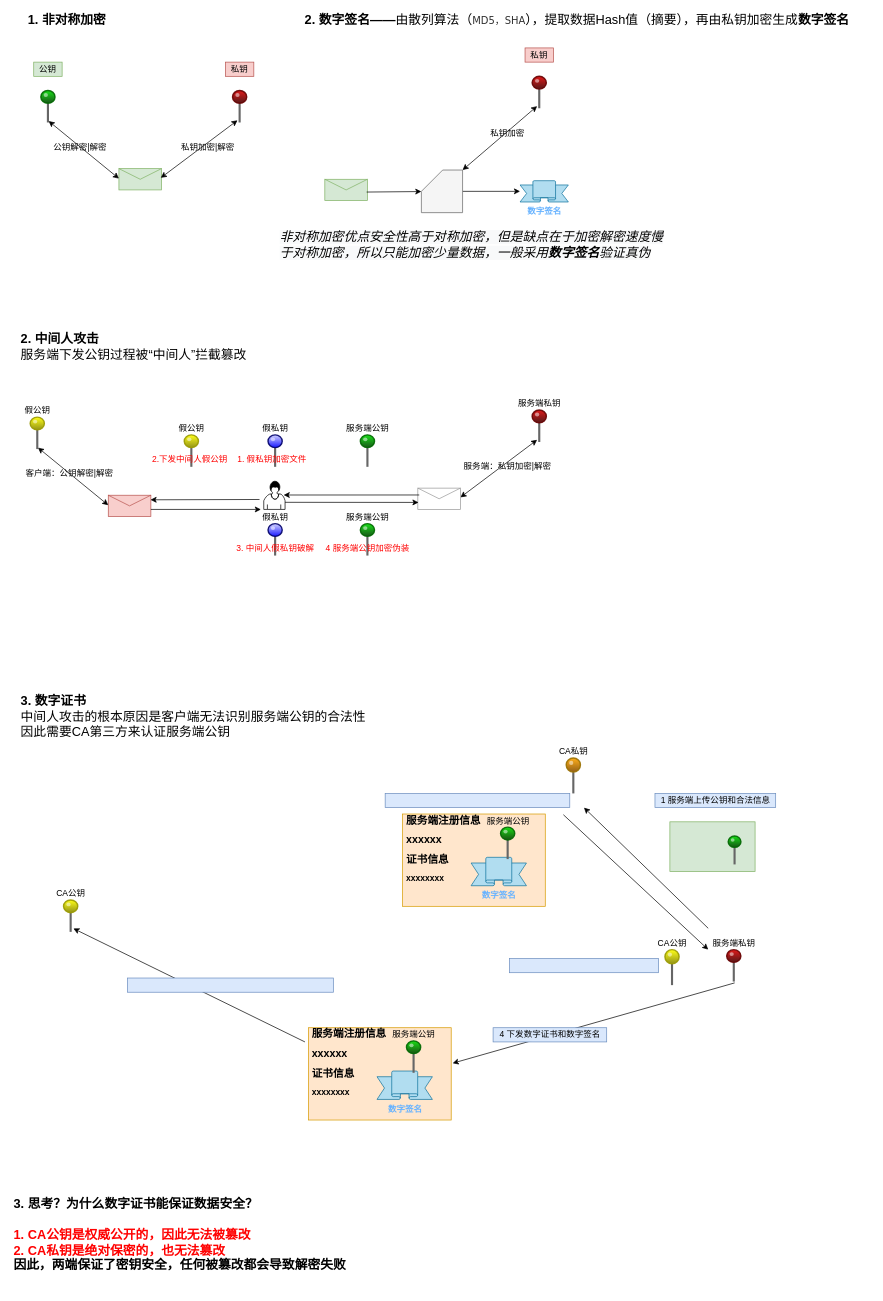
Some shapes in this 883 by 1301 pixel diagram are drawn without their labels. The box of each missing label's shape, as (x1, y1, x2, y2) in pixels:
2 CA用私钥对信息和公钥加密生成：数字证书: (384, 793, 570, 808)
3 服务端用CA公钥对该数字证书校验: (509, 958, 659, 973)
5 客户端用CA公钥解密数字证书从而获取服务端公钥: (127, 977, 333, 992)
Hash: (421, 169, 463, 213)
服务端注册信息 xxxxxx: (669, 821, 755, 872)
